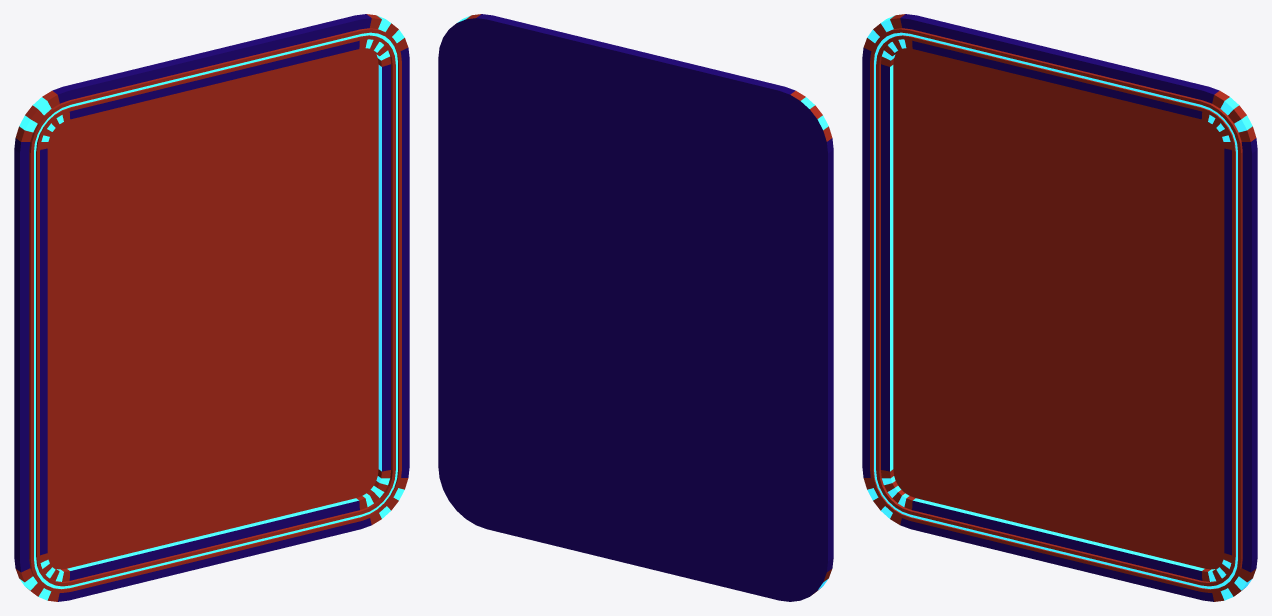
File: Boulder Trap.fbx
3 views of the same model, side by side, from view 1: azimuth 30°, elevation 25°; view 2: azimuth 150°, elevation 25°; view 3: azimuth 330°, elevation 25° (orthographic).
Parts seen in each view (by area): view 1: Boulder Trap; view 2: Boulder Trap; view 3: Boulder Trap.
Boxes of the visible parts, x1,y1,x2,y2 form: Boulder Trap: (14, 14, 409, 601); Boulder Trap: (438, 14, 833, 601); Boulder Trap: (862, 14, 1257, 601).
Bounding box in the file's own units: 400 × 500 × 12.86.
